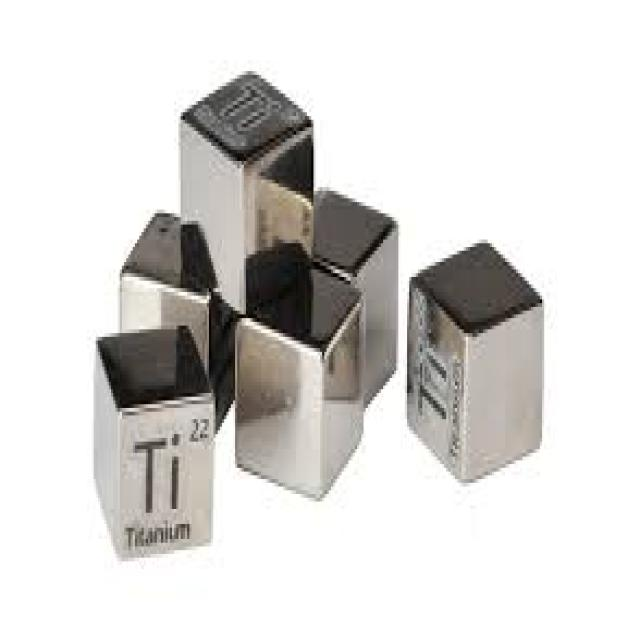Dry Waste: (62, 84, 584, 517)
